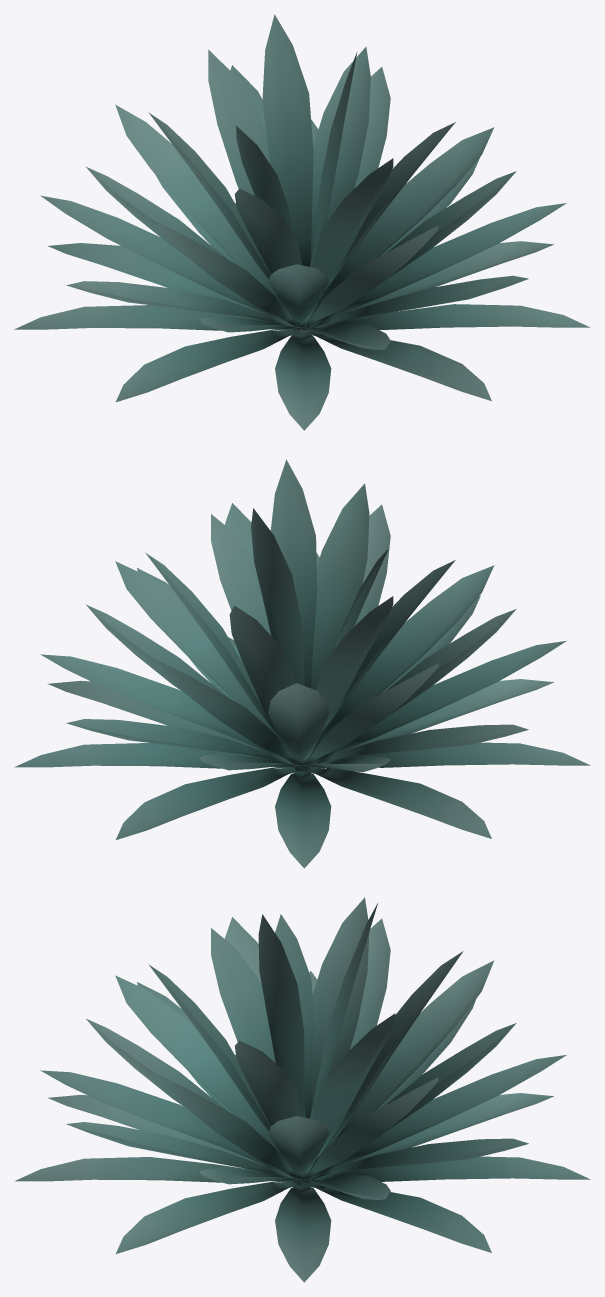
Rendered from plants-cacti-succulents-agave_v4.glb.
The picture shows the model from 3 angles, top to bottom: view 1: azimuth 30°, elevation 25°; view 2: azimuth 150°, elevation 25°; view 3: azimuth 270°, elevation 25°; orthographic projection.
Parts seen in each view (by area): view 1: Agave_v4; view 2: Agave_v4; view 3: Agave_v4.
Boxes of the visible parts, x1,y1,x2,y2 form: Agave_v4: [14, 14, 590, 430]; Agave_v4: [14, 459, 590, 868]; Agave_v4: [14, 897, 590, 1282].
Size of the model in its own units: 1.18 by 0.7398 by 1.2.
